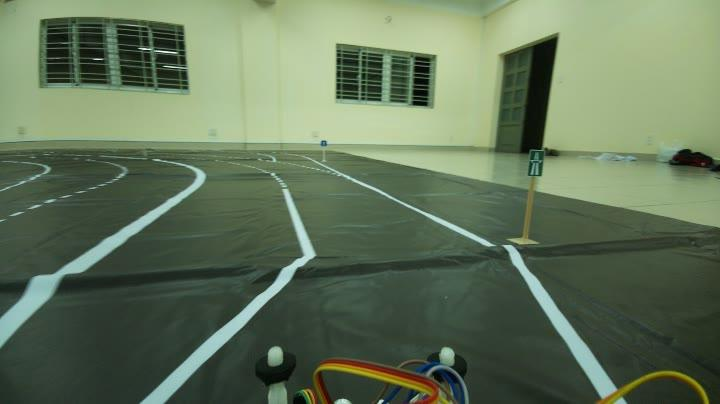highway_entry: (525, 136, 552, 188)
